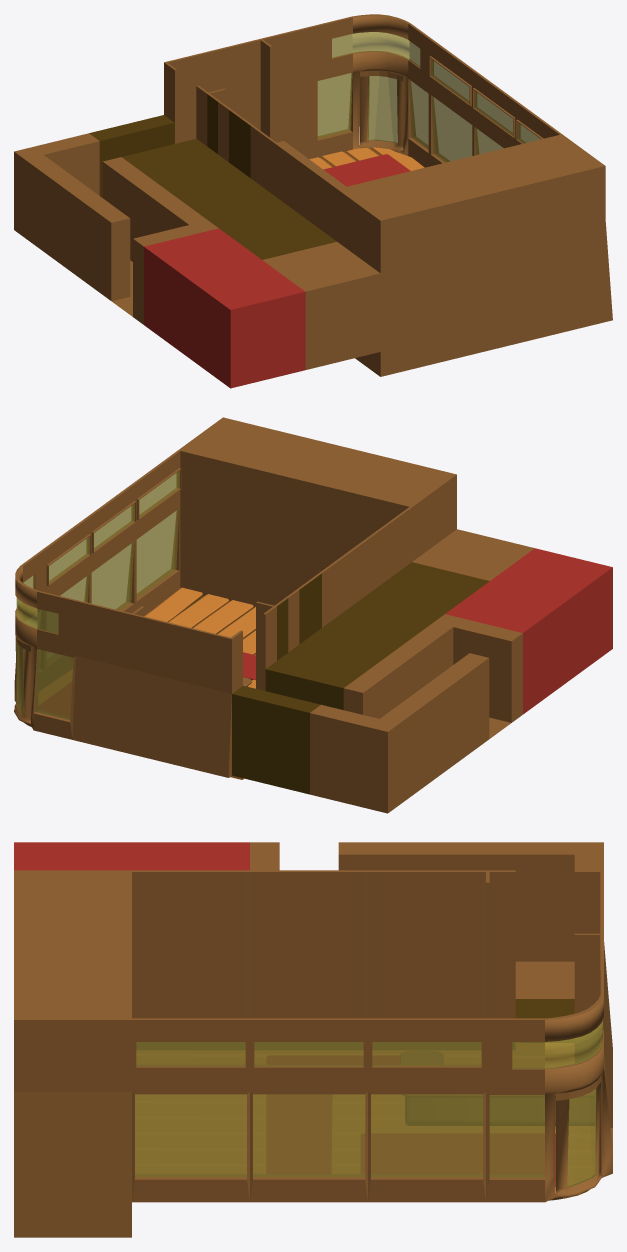
File: StartingRoom_2.fbx
The picture shows the model from 3 angles, top to bottom: view 1: azimuth 30°, elevation 25°; view 2: azimuth 150°, elevation 25°; view 3: azimuth 270°, elevation 25°; orthographic projection. The views are drawn at different scales.
Visible parts, largest first — view 1: Plane.360; view 2: Plane.360; view 3: Plane.360.
Boxes of the visible parts, box(x1,y1,x2,y2) form: Plane.360: box(14, 14, 612, 388); Plane.360: box(14, 417, 612, 813); Plane.360: box(14, 842, 612, 1237).
Bounding box in the file's own units: 1020 × 398 × 1015.
